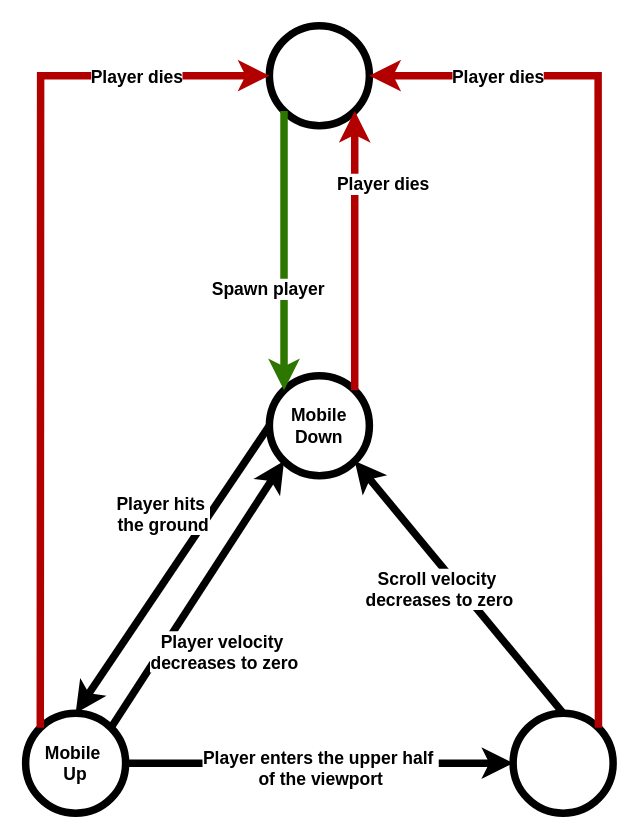
This 638x838 diagram has some shape labels left out. The box of each missing label's shape, as (x1, y1, x2, y2) in pixels:
Inactive: (265, 21, 372, 129)
Scrolling: (509, 709, 616, 816)
